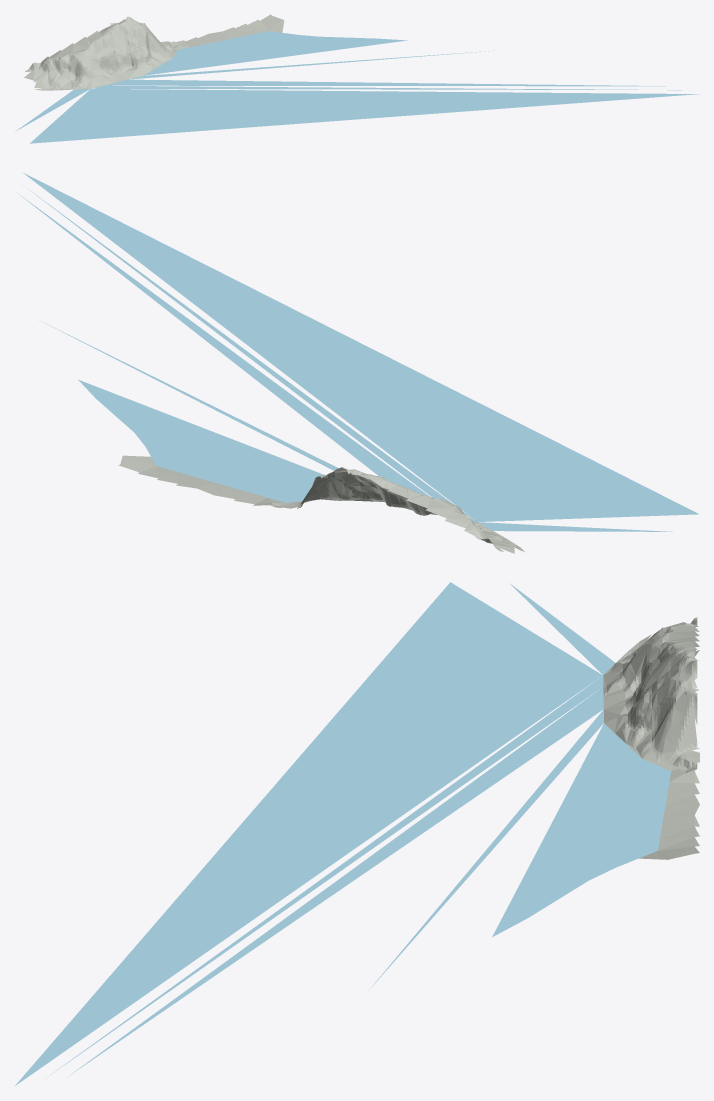
Rendered from chunk-3.glb.
3 views of the same model, one above another, from view 1: azimuth 30°, elevation 25°; view 2: azimuth 150°, elevation 25°; view 3: azimuth 270°, elevation 25° (orthographic). The views are drawn at different scales.
Parts seen in each view (by area): view 1: C-x-2-z-3; view 2: C-x-2-z-3; view 3: C-x-2-z-3.
Part boxes in pixels (<box>): C-x-2-z-3: <box>15,14,698,143</box>; C-x-2-z-3: <box>19,173,698,553</box>; C-x-2-z-3: <box>14,582,699,1086</box>.
Bounding box in the file's own units: 224 × 14.91 × 128.
